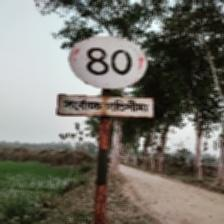Speed-limit: (59, 34, 152, 120)
